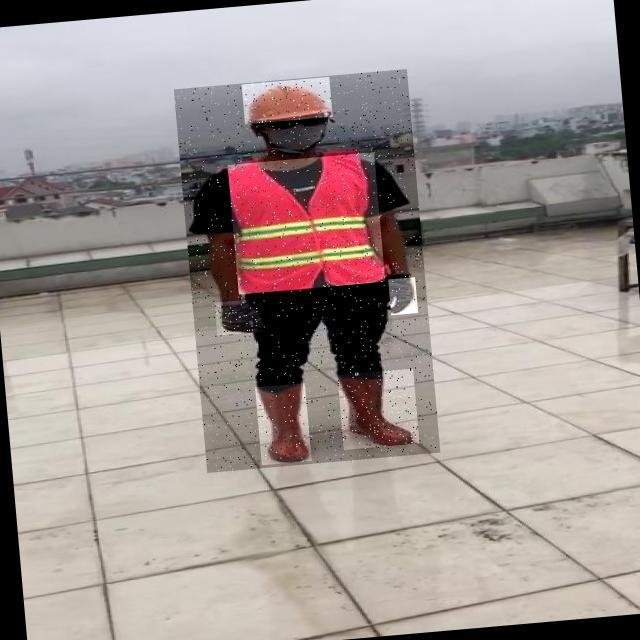Gloves: (214, 299, 263, 335), (388, 278, 418, 315)
Helmet: (242, 77, 333, 124)
Human: (173, 69, 440, 474)
Safety Boot: (337, 370, 419, 450), (255, 384, 312, 465)
Safety Vest: (228, 153, 387, 294)
